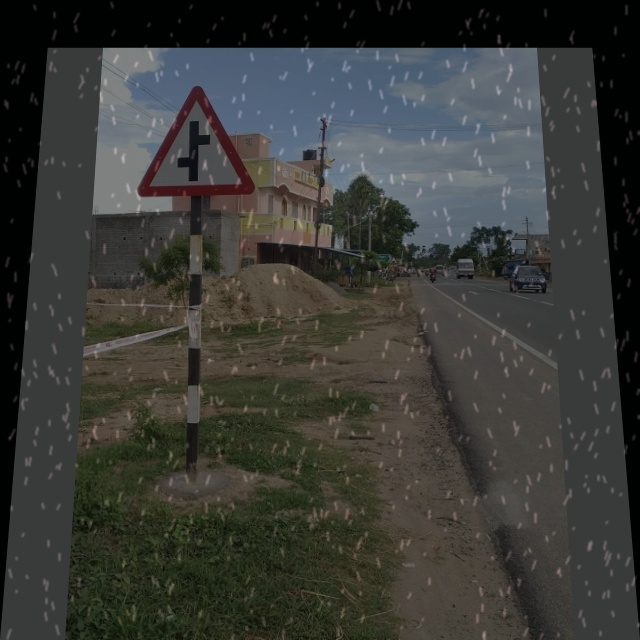Staggered_Intersection: (139, 76, 259, 204)
